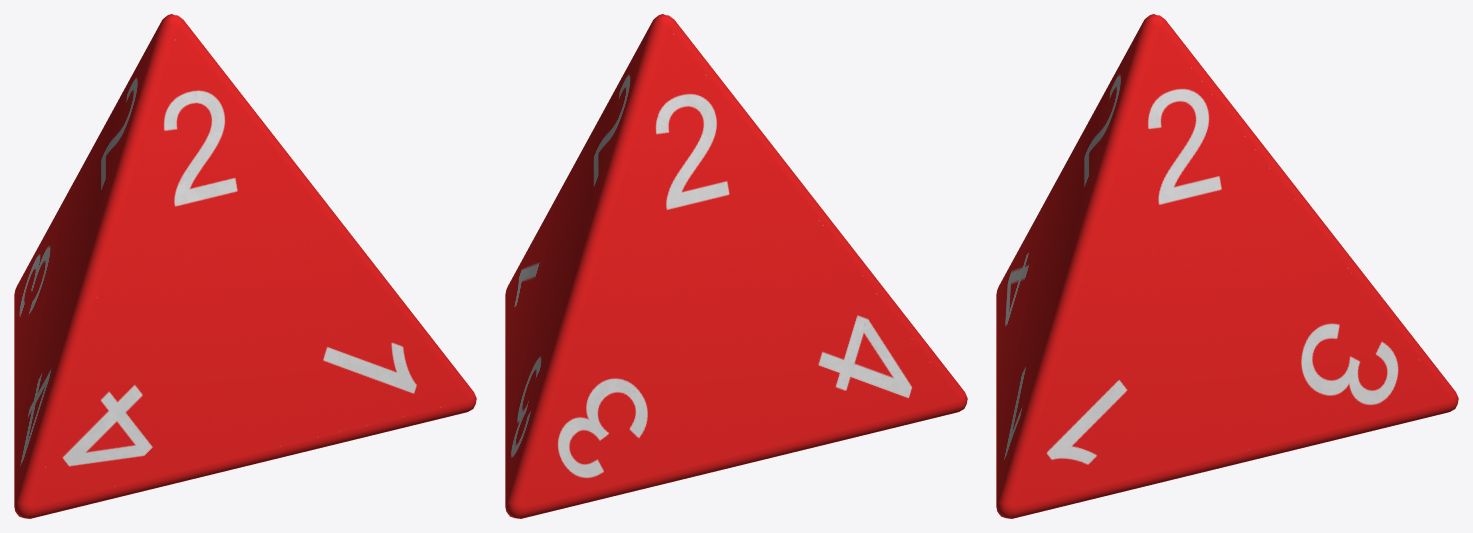
3 views of the same model, side by side, from view 1: azimuth 30°, elevation 25°; view 2: azimuth 150°, elevation 25°; view 3: azimuth 270°, elevation 25° (orthographic).
Visible parts, largest first — view 1: d4_red_plastic; view 2: d4_red_plastic; view 3: d4_red_plastic.
Part boxes in pixels (left/top/right/bottom): d4_red_plastic: left=14, top=14, right=476, bottom=518; d4_red_plastic: left=505, top=14, right=967, bottom=518; d4_red_plastic: left=996, top=14, right=1458, bottom=518.
Bounding box in the file's own units: 2.06 × 1.7 × 1.8.
Materials: 1 (1 with a texture image).
